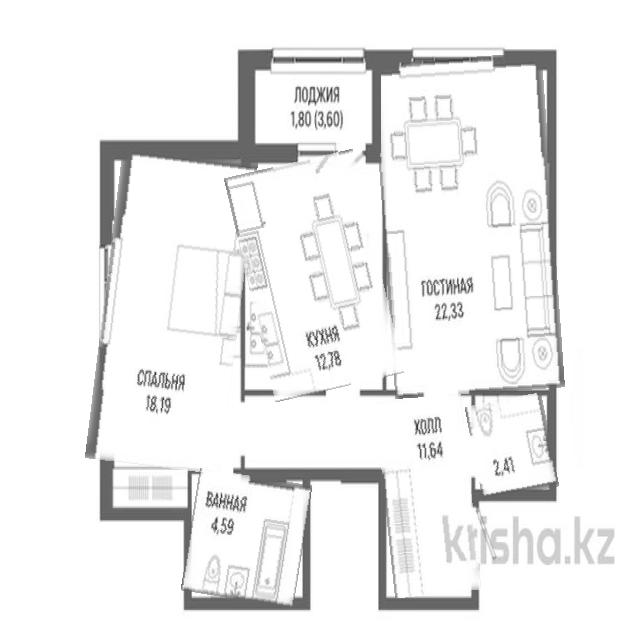balcony: (244, 60, 381, 153)
bathroom: (186, 472, 308, 604), (469, 396, 555, 498)
hallway: (379, 395, 476, 596)
kitchen: (236, 155, 392, 397)
living_room: (378, 55, 560, 397), (95, 148, 249, 470)
